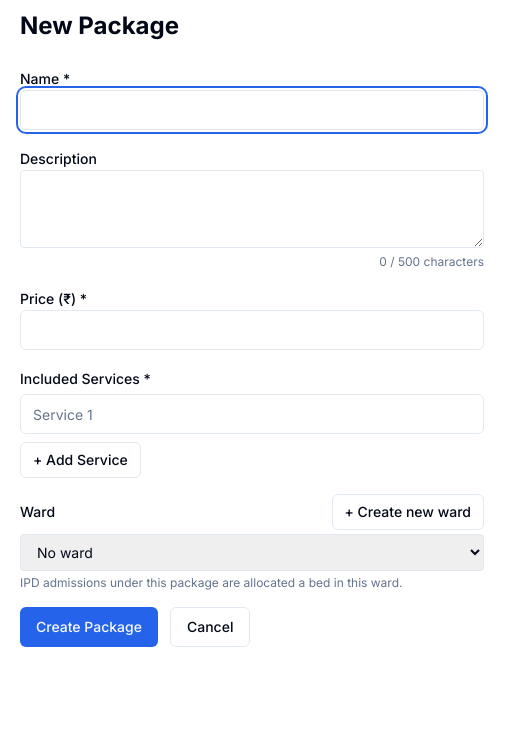
Scenario: NewPackagePage — ward linking › HOSPITAL_ADMIN must name the new ward
This screenshot has width=505, height=755.
In the field labelled "Name *": (252, 110) [20,90,484,130], type "Maternity Package"
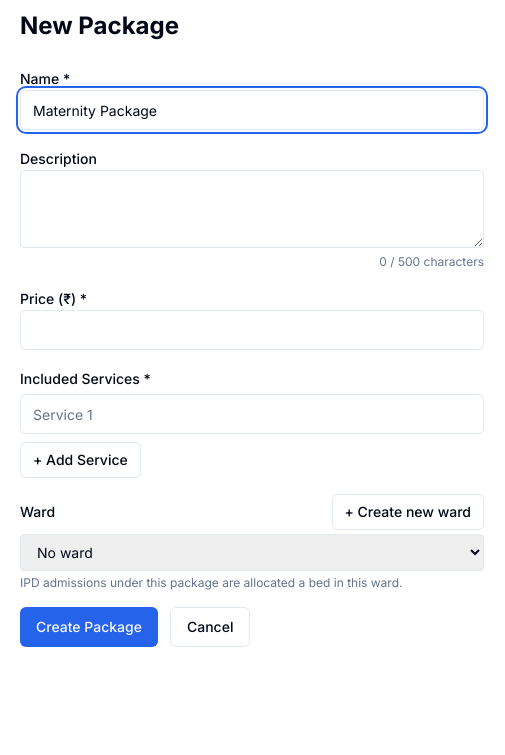
In the number field labelled "Price (₹) *": (252, 330) [20,310,484,350], type "25000"
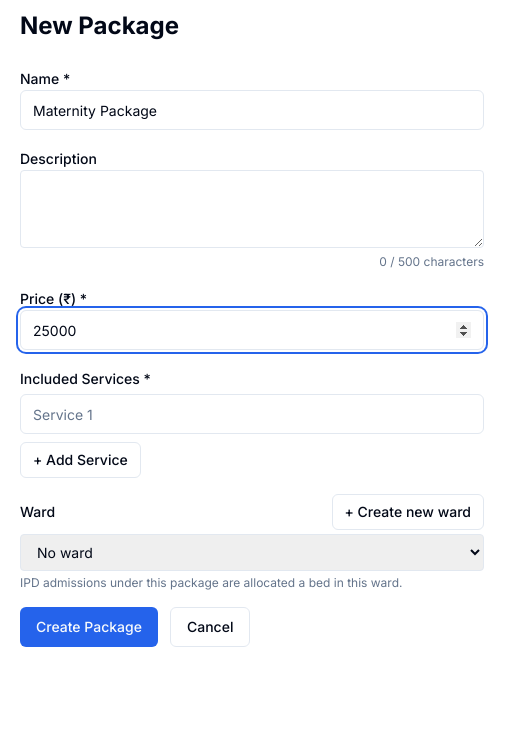
In the field with placeholder "Service 1": (252, 414) [20,394,484,434], type "Delivery"
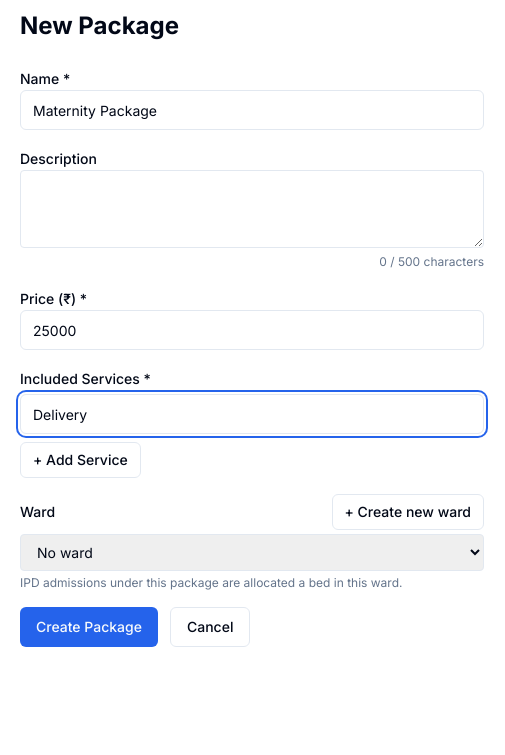
Click the button "+ Create new ward": (408, 512) [332,494,484,530]
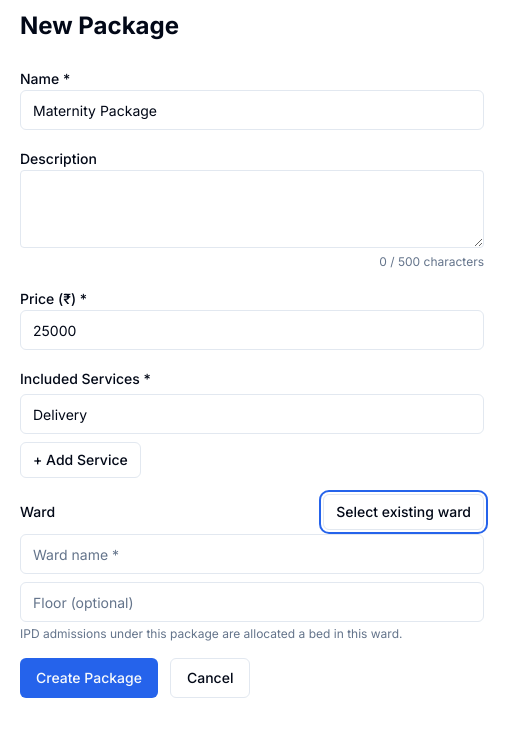
Click the button "Create Package": (89, 678) [20,658,158,698]
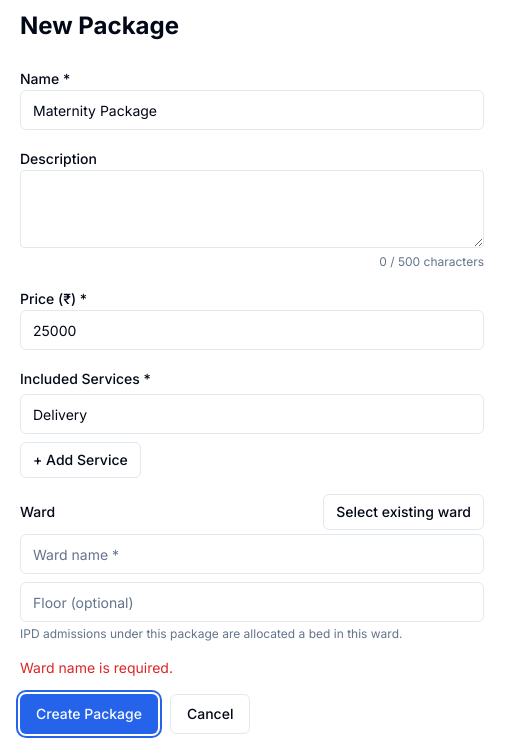
Result: the text "Ward name is required." is shown at [20,659,173,676]
